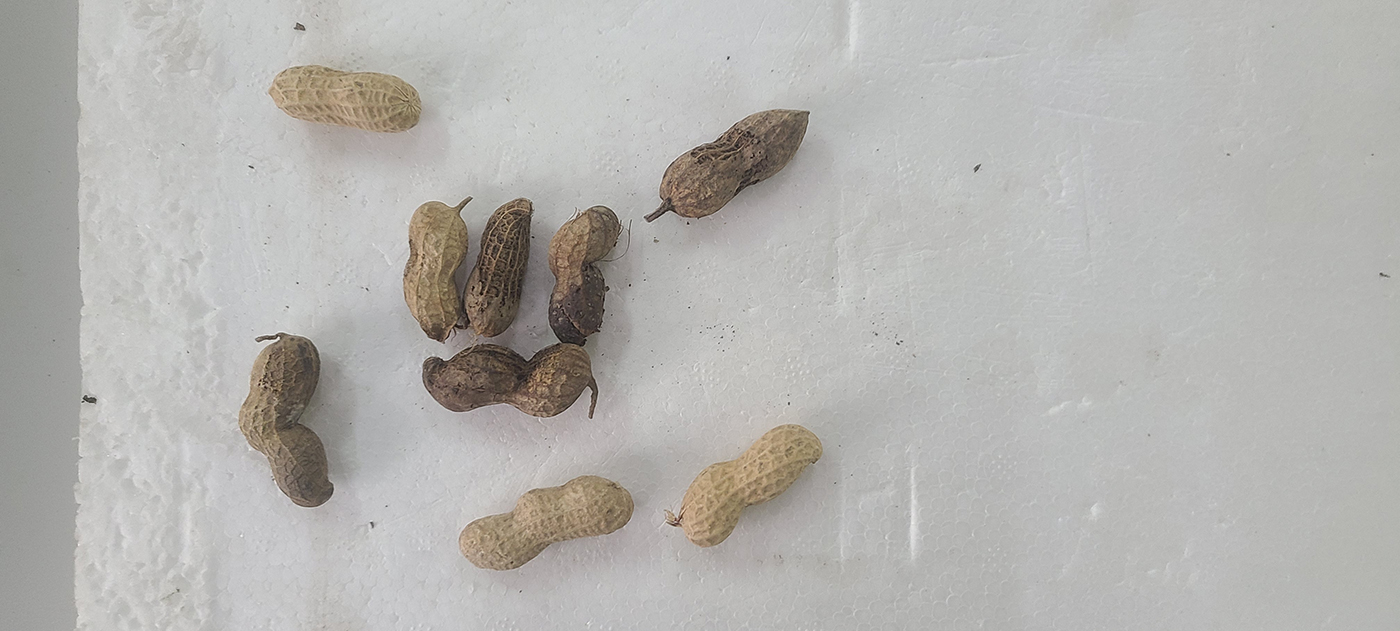h: (457, 473, 634, 570), (677, 427, 822, 545), (268, 65, 421, 134)
l: (657, 106, 811, 217), (237, 337, 332, 508), (421, 342, 593, 418), (547, 203, 619, 343), (464, 197, 534, 338), (404, 201, 470, 342)
